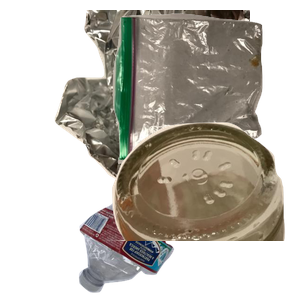glass: (89, 120, 300, 300)
metal: (52, 10, 292, 190)
plastic: (76, 131, 280, 300)
trash: (110, 11, 300, 167)
